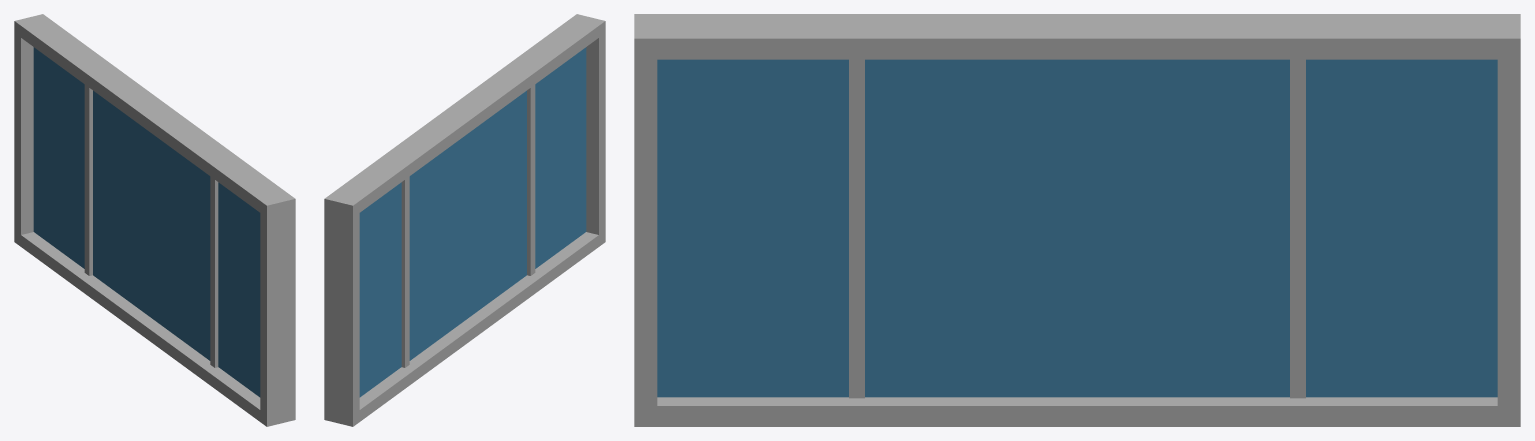
File: Small Window.fbx
3 views of the same model, side by side, from view 1: azimuth 30°, elevation 25°; view 2: azimuth 150°, elevation 25°; view 3: azimuth 270°, elevation 25° (orthographic). The views are drawn at different scales.
Visible parts, largest first — view 1: Small window; view 2: Small window; view 3: Small window.
Boxes of the visible parts, left/top/right/bottom form: Small window: left=14, top=14, right=295, bottom=426; Small window: left=324, top=14, right=605, bottom=426; Small window: left=634, top=14, right=1520, bottom=426.
Size of the model in its own units: 10.58 by 78.16 by 162.
